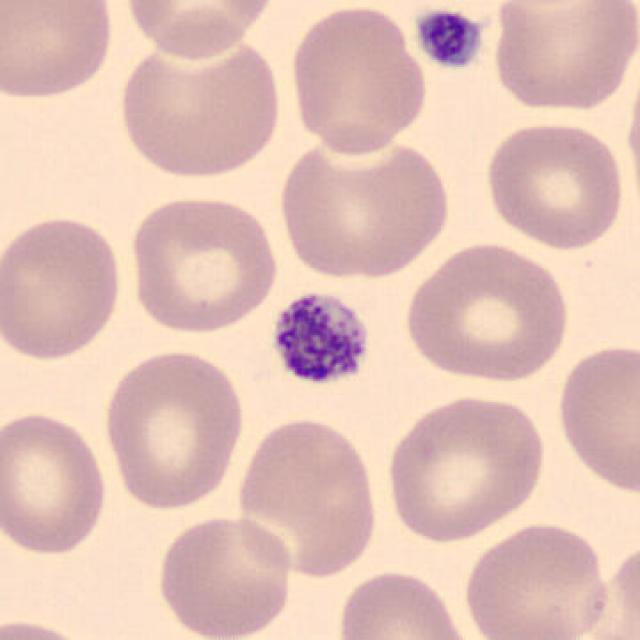Platelets: (265, 288, 373, 392), (409, 4, 487, 70)
RBC: (272, 127, 455, 284), (114, 25, 286, 183), (380, 390, 550, 544), (231, 412, 384, 582), (400, 238, 574, 386), (100, 346, 247, 513), (125, 190, 282, 337), (284, 2, 430, 157), (480, 116, 628, 252), (0, 212, 126, 363), (461, 518, 614, 640), (153, 511, 297, 640), (487, 0, 638, 115), (0, 407, 112, 559), (551, 339, 638, 497), (0, 0, 119, 104), (332, 566, 477, 640), (121, 0, 279, 60), (585, 534, 640, 640), (622, 49, 640, 220), (0, 615, 100, 640)
